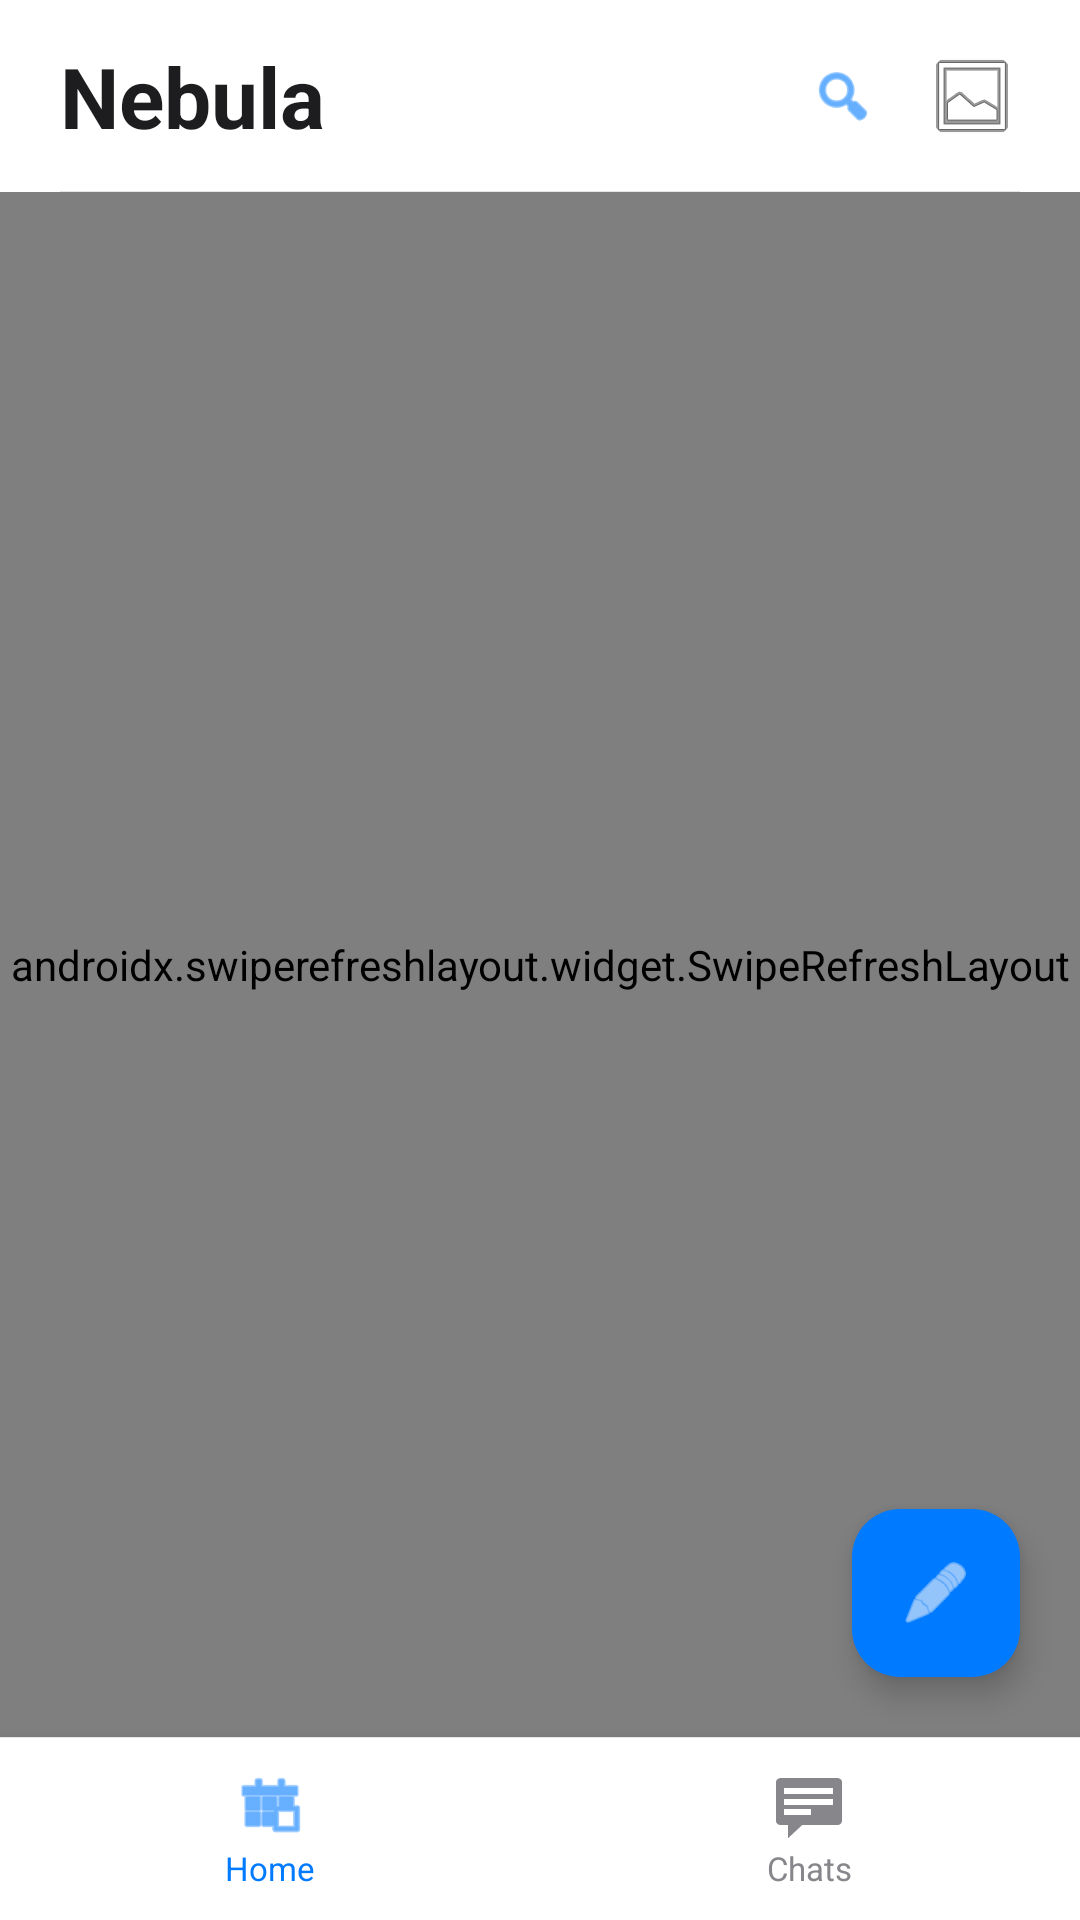

Icon bounding boxes for this 1080*1920 phone screenshot, format (x1, y1, x2, y2):
edit: (852, 1509, 1020, 1677)
gallery: (936, 60, 1008, 132)
search: (819, 72, 867, 121)
today: (241, 1778, 300, 1833)
